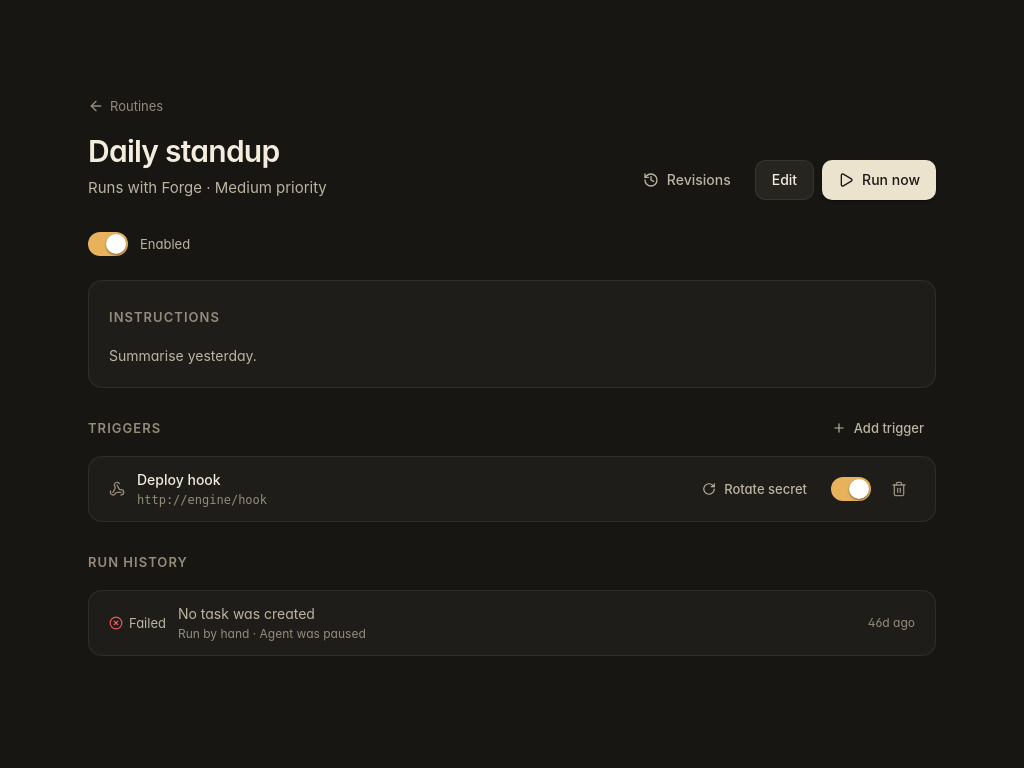
Test: routines › shows a webhook's secret once, after rotating it, and never in the list
Later steps or results of the test are not shown.
Expected: the text "Run by hand · Agent was paused" is shown, [178,626,366,641]
Expected: the text "s3cret-value-123" is not shown
Click the button "Rotate secret": (755, 489) [690,473,819,505]
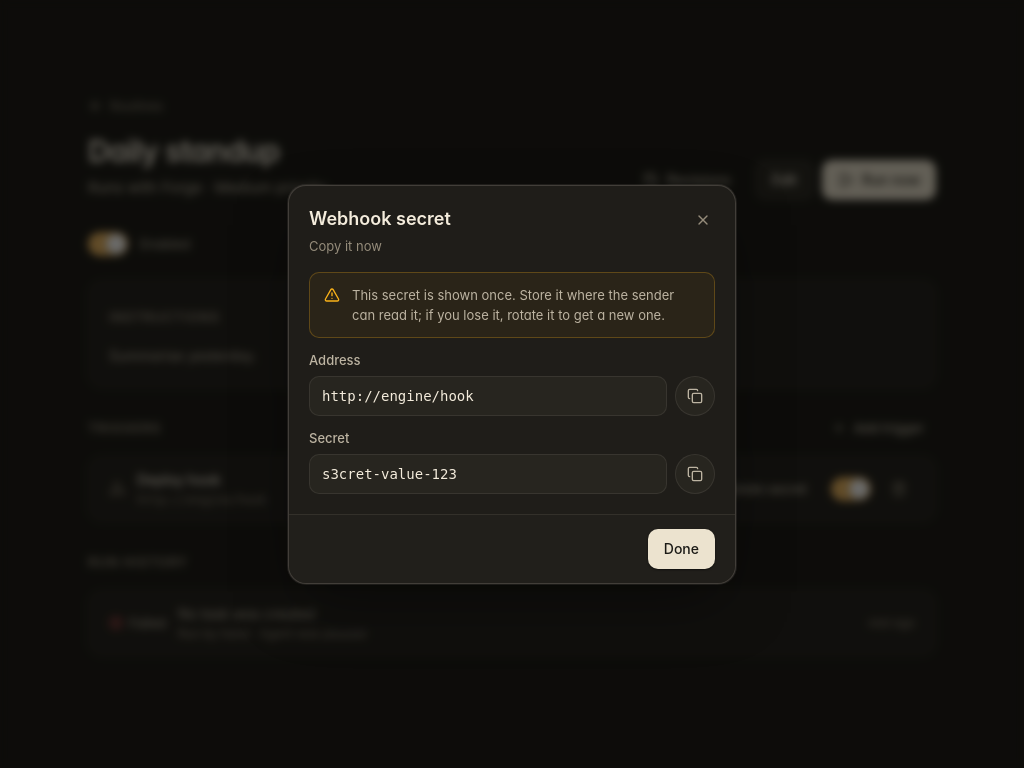
Now the text "shown once" is shown, box [352,286,674,322]
Now the field named "Webhook secret" holds "s3cret-value-123", box [309,454,667,494]
